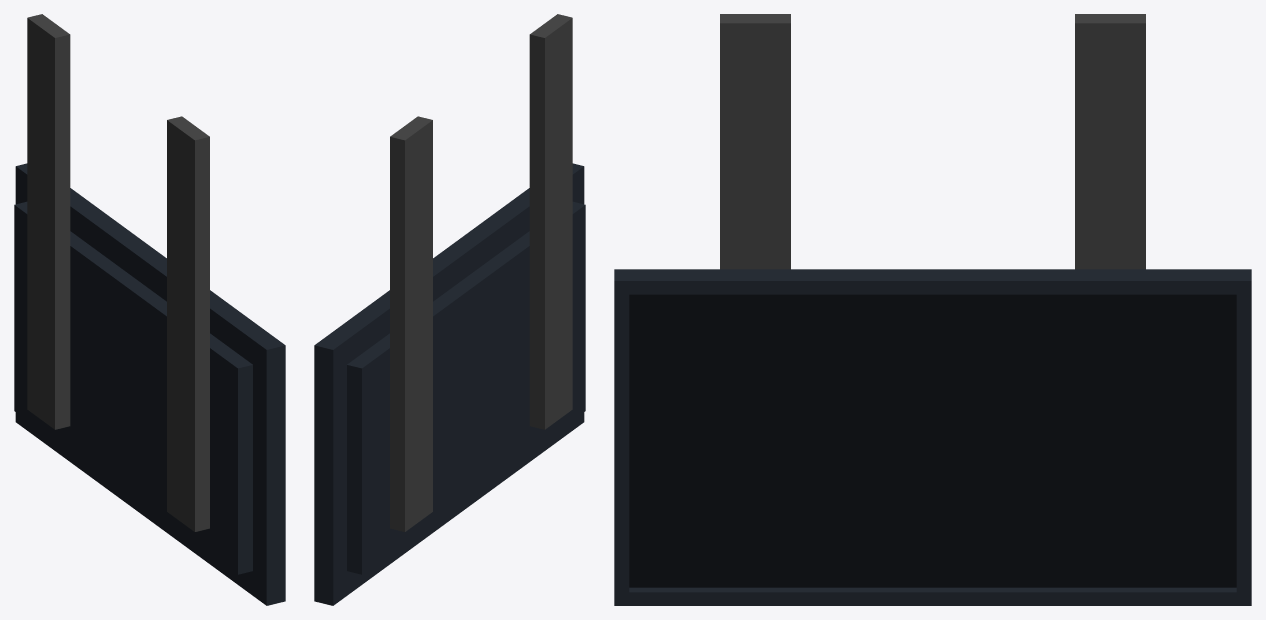
The picture shows the model from 3 angles, left to right: view 1: azimuth 30°, elevation 25°; view 2: azimuth 150°, elevation 25°; view 3: azimuth 270°, elevation 25°; orthographic projection. The views are drawn at different scales.
Parts seen in each view (by area): view 1: Cube; view 2: Cube; view 3: Cube.
Part boxes in pixels (x1,y1,x2,y2): Cube: [14, 14, 285, 605]; Cube: [314, 14, 585, 605]; Cube: [614, 14, 1251, 605].
Bounding box in the file's own units: 0.325 × 2.8 × 2.88.
1 material, 1 textured.
